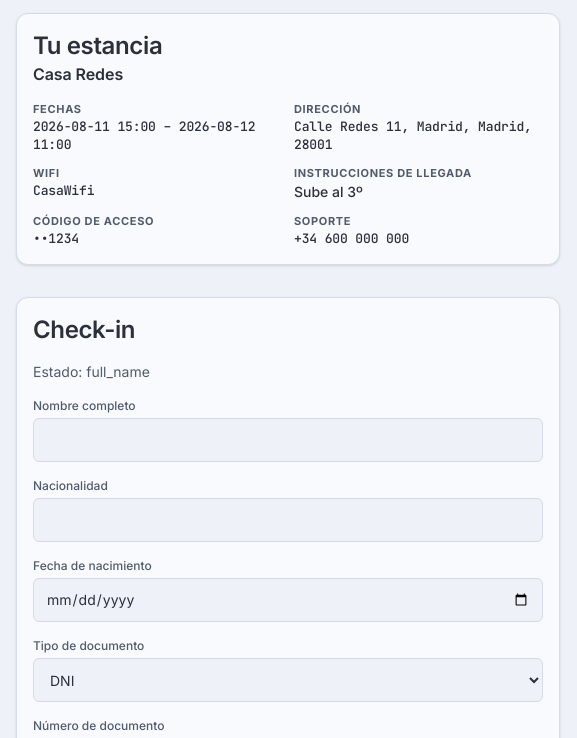
check-in journey (R2, task 4.3) › maps a 422 to the offending field, without leaking the raw body
Type "Ana" into the field labelled "Nombre completo".
click(288, 440); type("Ana")  # box x1=33 y1=418 x2=543 y2=462
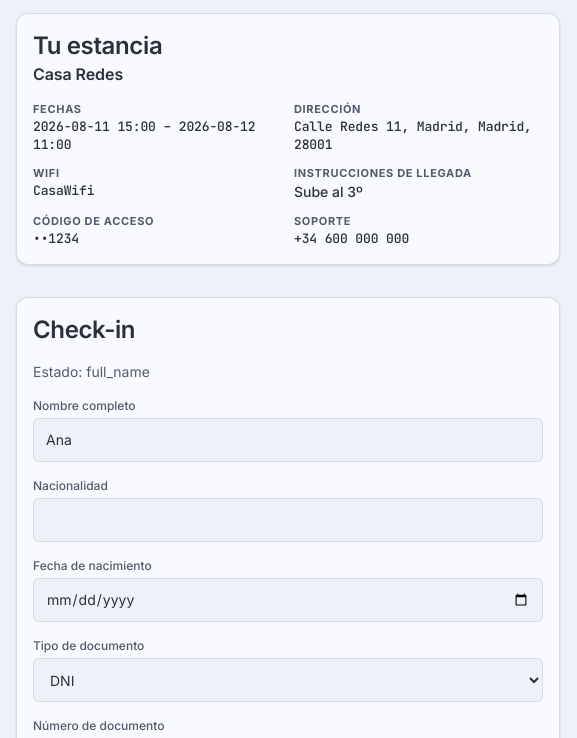
Type "ES" into the field labelled "Nacionalidad".
click(288, 520); type("ES")  # box x1=33 y1=498 x2=543 y2=542
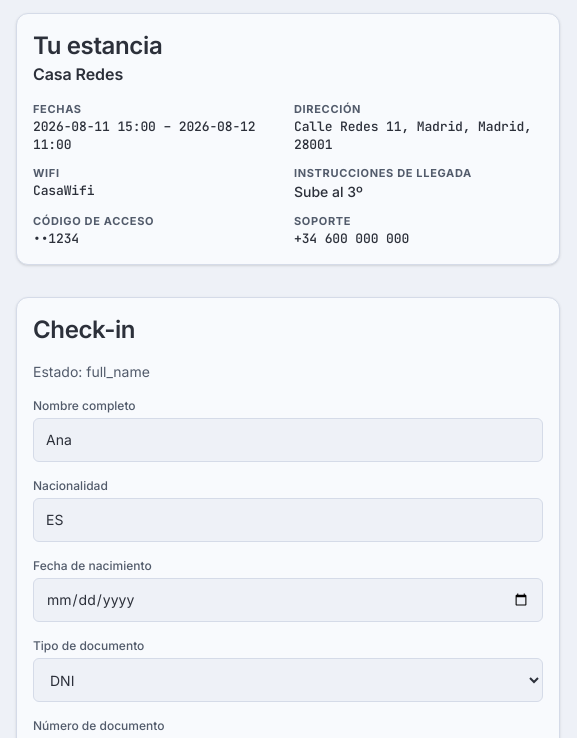
Type "1990-01-01" into the date field labelled "Fecha de nacimiento".
click(288, 600); type("1990-01-01")  # box x1=33 y1=578 x2=543 y2=622
(page scrolled)
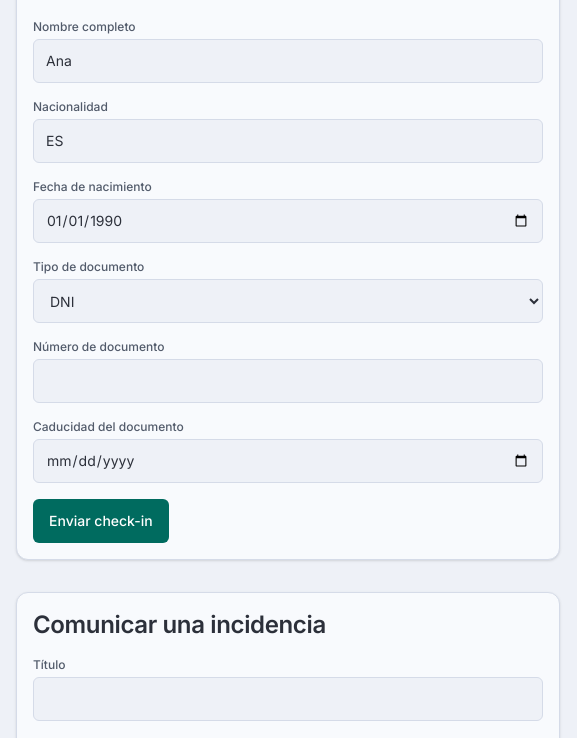
Type "DOC-VALUE" into the field labelled "Número de documento".
click(288, 381); type("DOC-VALUE")  # box x1=33 y1=359 x2=543 y2=403
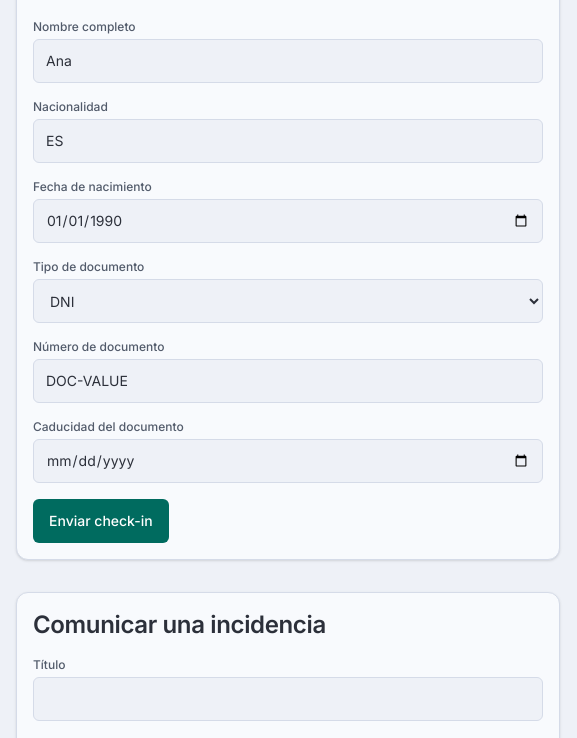
Type "2030-01-01" into the date field labelled "Caducidad del documento".
click(288, 461); type("2030-01-01")  # box x1=33 y1=439 x2=543 y2=483
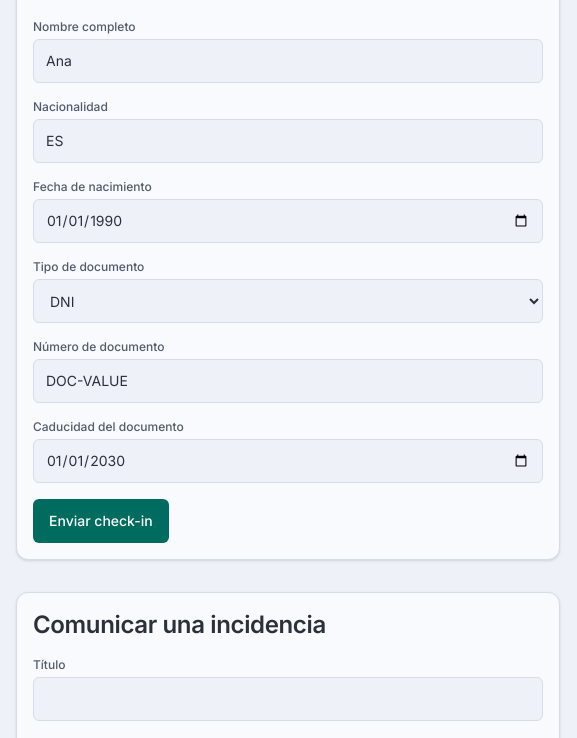
Click the button "Enviar check-in".
click(101, 521)  # box x1=33 y1=499 x2=169 y2=543
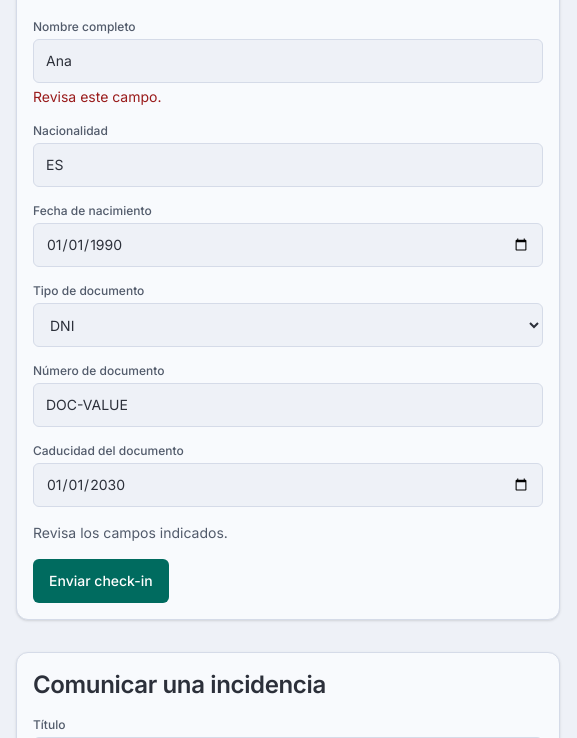
Now the text "Revisa este campo." is shown, box x1=33 y1=88 x2=162 y2=105
